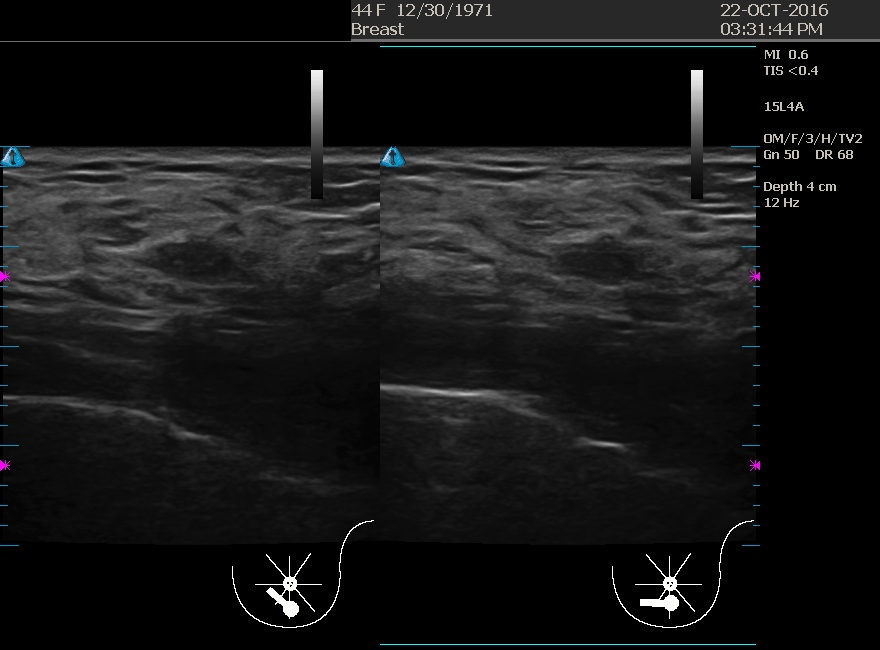BIRADS_2: (99, 186, 291, 378), (494, 200, 686, 392)
